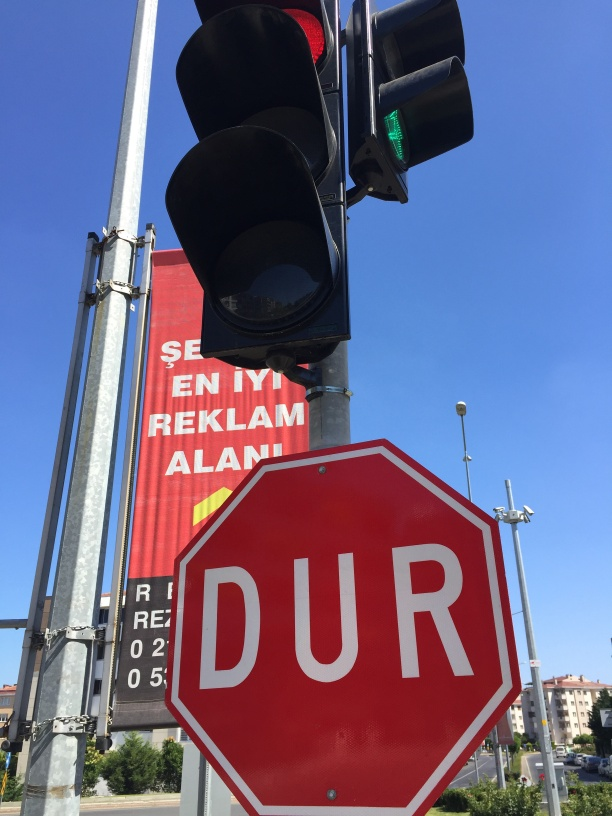arac_dur_isareti: (147, 463, 547, 792)
